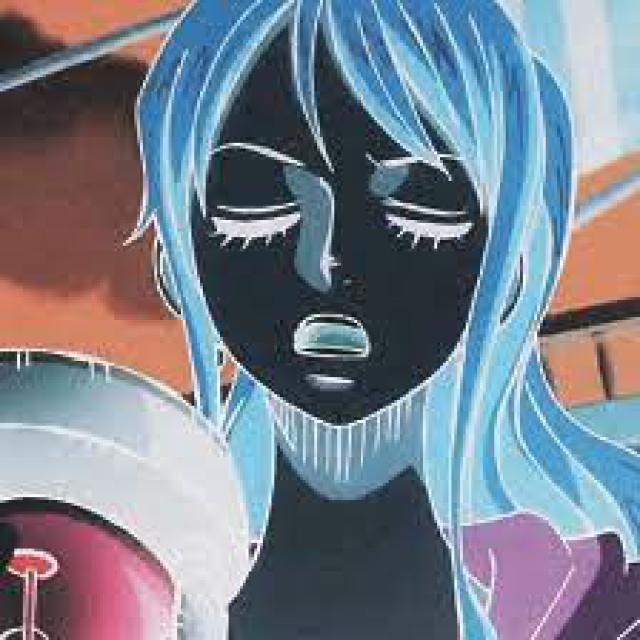Nami: (134, 0, 640, 640)
